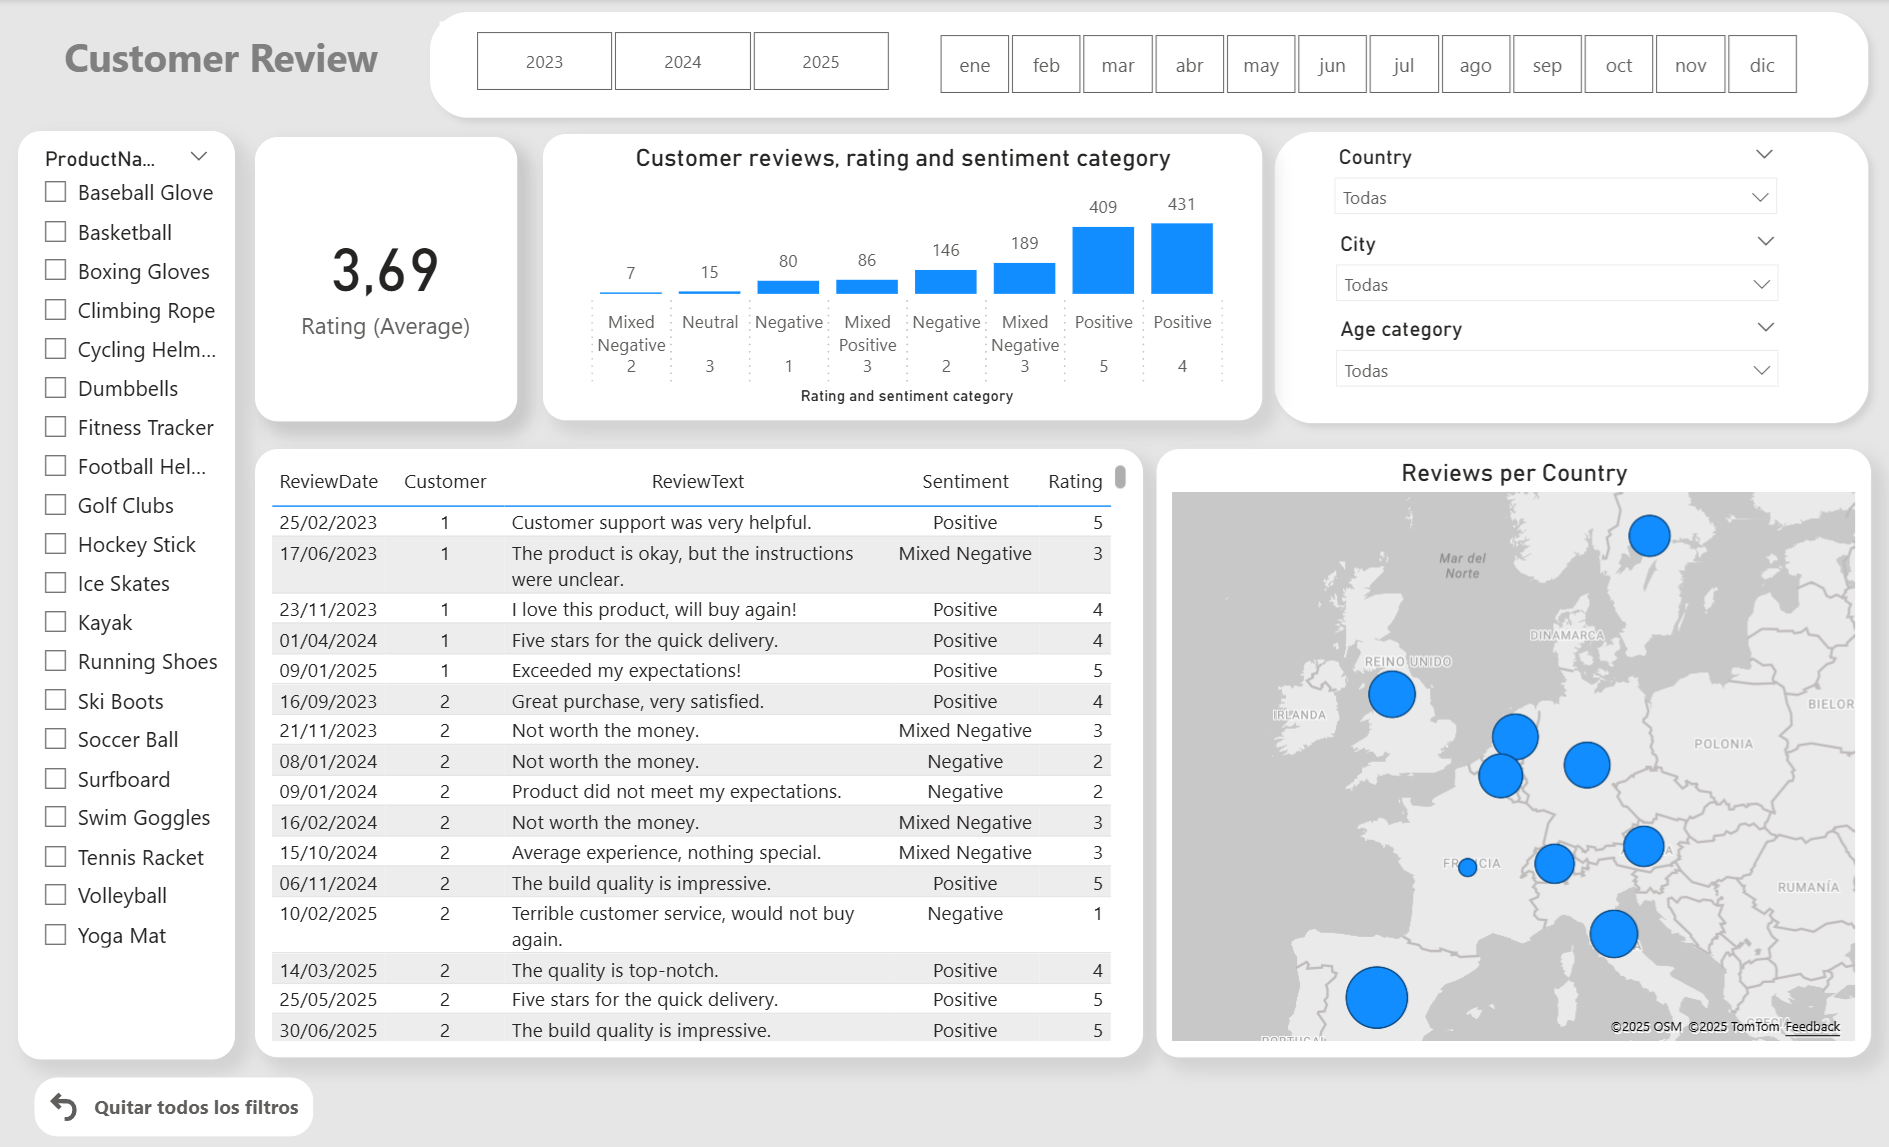

What the dashboard file says about the page in this screenshot:
{"tool":"powerbi","page":{"name":"Customer review details","canvas":[1320,800],"ordinal":3},"visuals":[{"type":"shape","box":[878.6,83.3,428.6,219.4],"z":0},{"type":"shape","box":[294.8,0,1012.5,91.1],"z":1000},{"type":"textbox","box":[46.1,16.9,246.4,58.5],"z":2000},{"type":"slicer","fields":{"Values":["dim_products.ProductName"]},"box":[18.7,90.9,149.9,641.7],"z":3000},{"type":"slicer","fields":{"Values":["Calendar.Year"]},"box":[310.3,16,334.8,54.4],"z":4000},{"type":"slicer","fields":{"Values":["Calendar.MonthNameShort"]},"box":[630.1,18.1,641.9,54.4],"z":5000},{"type":"card","fields":{"Values":["Calculations.Rating (Average)"]},"box":[182.5,95.1,181.2,196.6],"z":6000},{"type":"tableEx","fields":{"Values":["fact_customer_reviews_with_sentiment.ReviewDate","fact_customer_reviews_with_sentiment.CustomerID","fact_customer_reviews_with_sentiment.ReviewText","fact_customer_reviews_with_sentiment.SentimentCategory","fact_customer_reviews_with_sentiment.Rating"]},"box":[182.3,311.6,614.3,420.8],"z":7000},{"type":"azureMap","title":"Reviews per Country","fields":{"Category":["dim_customers.Country","dim_customers.City"],"Size":["Count(fact_customer_reviews_with_sentiment.ReviewID)"]},"box":[805.5,311.6,493.9,420.8],"z":8000},{"type":"columnChart","title":"Customer reviews, rating  and sentiment category","fields":{"Category":["fact_customer_reviews_with_sentiment.Rating","fact_customer_reviews_with_sentiment.SentimentCategory"],"Y":["Calculations.Customer reviews"]},"box":[381.6,93.8,497.3,197.9],"z":9000},{"type":"slicer","fields":{"Values":["dim_customers.Country"]},"box":[919.1,95.6,326.3,67.5],"z":10000},{"type":"slicer","fields":{"Values":["dim_customers.City"]},"box":[920.3,155.3,326.3,76.5],"z":11000},{"type":"slicer","fields":{"Values":["dim_customers.RangoEdad"]},"box":[920.3,214.9,326.3,76.5],"z":12000},{"type":"actionButton","box":[30.1,745.7,192.9,40.5],"z":13000}]}

Visuals, with their boxes in screenshot pixels (x1, y1, x2, y2), scaled from the page's 1320x800 canvas onto the 1889x1147 screenshot:
shape: (1257, 119, 1871, 434)
shape: (422, 0, 1871, 131)
textbox: (66, 24, 419, 108)
slicer - dim_products.ProductName: (27, 130, 241, 1050)
slicer - Calendar.Year: (444, 23, 923, 101)
slicer - Calendar.MonthNameShort: (902, 26, 1820, 104)
card - Calculations.Rating (Average): (261, 136, 520, 418)
tableEx - fact_customer_reviews_with_sentiment.ReviewDate x fact_customer_reviews_with_sentiment.CustomerID: (261, 447, 1140, 1050)
"Reviews per Country" azureMap: (1153, 447, 1860, 1050)
"Customer reviews, rating  and sentiment category" columnChart: (546, 134, 1258, 418)
slicer - dim_customers.Country: (1315, 137, 1782, 234)
slicer - dim_customers.City: (1317, 223, 1784, 332)
slicer - dim_customers.RangoEdad: (1317, 308, 1784, 418)
actionButton: (43, 1069, 319, 1127)
